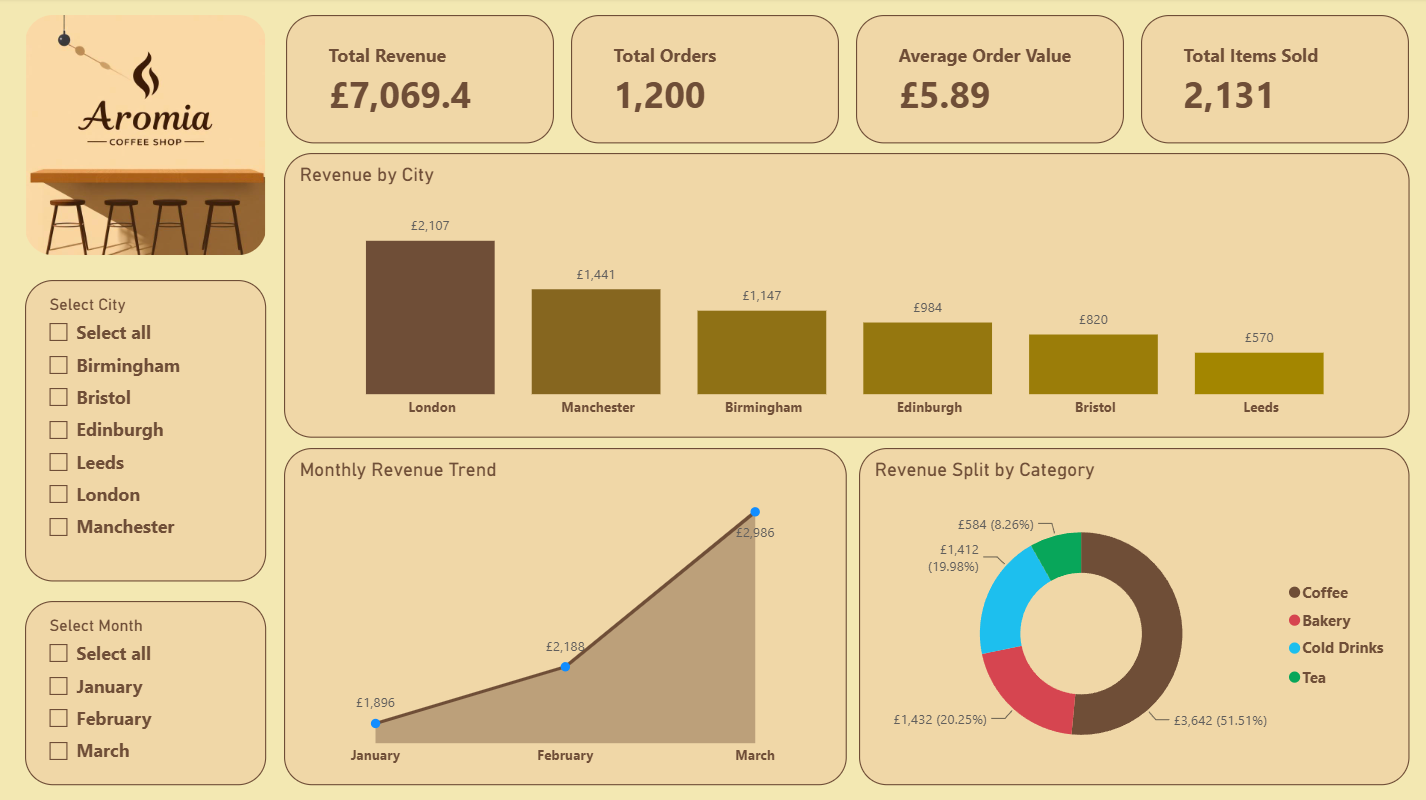

What the dashboard file says about the page in this screenshot:
{"tool":"powerbi","page":{"name":"General Overview","canvas":[1280,720],"ordinal":0},"visuals":[{"type":"cardVisual","fields":{"Data":["Measures list.Total Revenue"]},"box":[257,15.1,240,115],"z":0,"group":"g1"},{"type":"clusteredColumnChart","title":"Revenue by City","fields":{"Category":["stores.city"],"Y":["Measures list.Total Revenue"]},"box":[255,139.1,1007.9,255],"z":0},{"type":"cardVisual","fields":{"Data":["Measures list.Total Orders"]},"box":[512.3,15.1,240,115],"z":1000,"group":"g1"},{"type":"lineChart","title":"Monthly Revenue Trend","fields":{"Category":["Calendar.Date Hierarchy.Year","Calendar.Date Hierarchy.Quarter","Calendar.Date Hierarchy.Month"],"Y":["Measures list.Total Revenue"]},"box":[255,403.1,503.9,302.4],"z":1000},{"type":"cardVisual","fields":{"Data":["Measures list.Average Order Value"]},"box":[767.7,15.1,240,115],"z":2000,"group":"g1"},{"type":"donutChart","title":"Revenue Split by Category","fields":{"Category":["products.category"],"Y":["Measures list.Total Revenue"]},"box":[770.1,403,492.9,302.4],"z":2000},{"type":"cardVisual","fields":{"Data":["Measures list.Total Items Sold"]},"box":[1023,15.1,240,115],"z":3000,"group":"g1"},{"type":"slicer","fields":{"Values":["stores.city"]},"box":[23.3,252.5,215.8,269.6],"z":3000},{"type":"image","box":[23.2,15.1,215.7,214.7],"z":4000},{"type":"slicer","fields":{"Values":["Calendar.Month"]},"box":[23.2,540.2,215.7,165.3],"z":5000},{"type":"group","id":"g1","title":"Group 1","box":[257,15.1,1006,115],"z":6000}]}

Visuals, with their boxes in screenshot pixels (x1, y1, x2, y2), scaled from the page's 1280x720 canvas onto the 1426x800 screenshot:
cardVisual - Measures list.Total Revenue: Rect(286, 17, 554, 145)
"Revenue by City" clusteredColumnChart: Rect(284, 155, 1407, 438)
cardVisual - Measures list.Total Orders: Rect(571, 17, 838, 145)
"Monthly Revenue Trend" lineChart: Rect(284, 448, 845, 784)
cardVisual - Measures list.Average Order Value: Rect(855, 17, 1123, 145)
"Revenue Split by Category" donutChart: Rect(858, 448, 1407, 784)
cardVisual - Measures list.Total Items Sold: Rect(1140, 17, 1407, 145)
slicer - stores.city: Rect(26, 281, 266, 580)
image: Rect(26, 17, 266, 255)
slicer - Calendar.Month: Rect(26, 600, 266, 784)
"Group 1" group: Rect(286, 17, 1407, 145)
